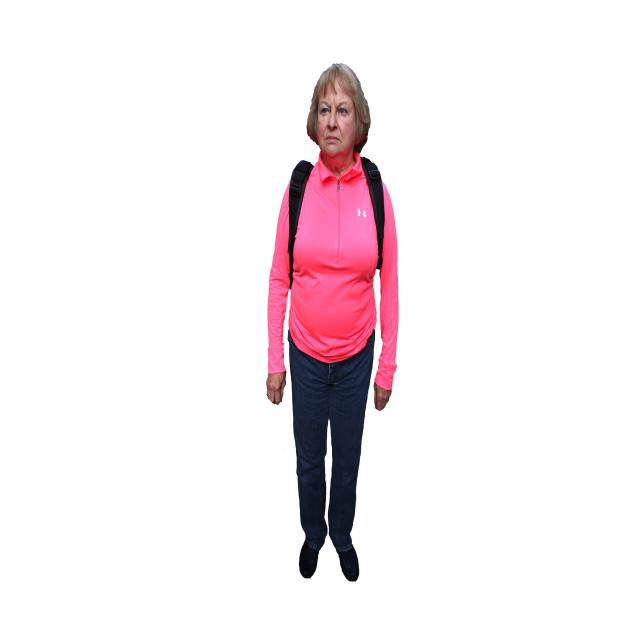idoso em pe: (265, 64, 408, 580)
